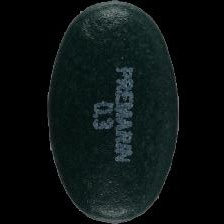0046-1100: (0, 0, 224, 224)
